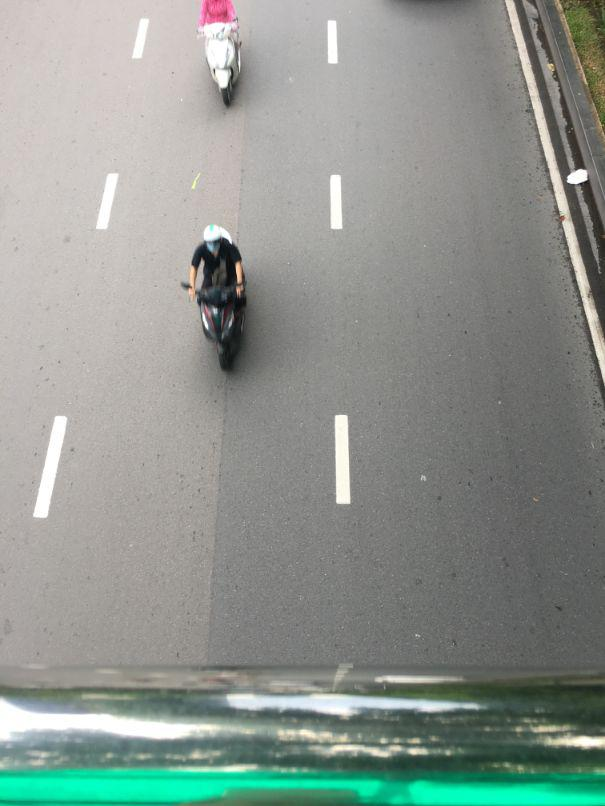motorbike: (199, 15, 253, 107), (197, 278, 246, 373)
